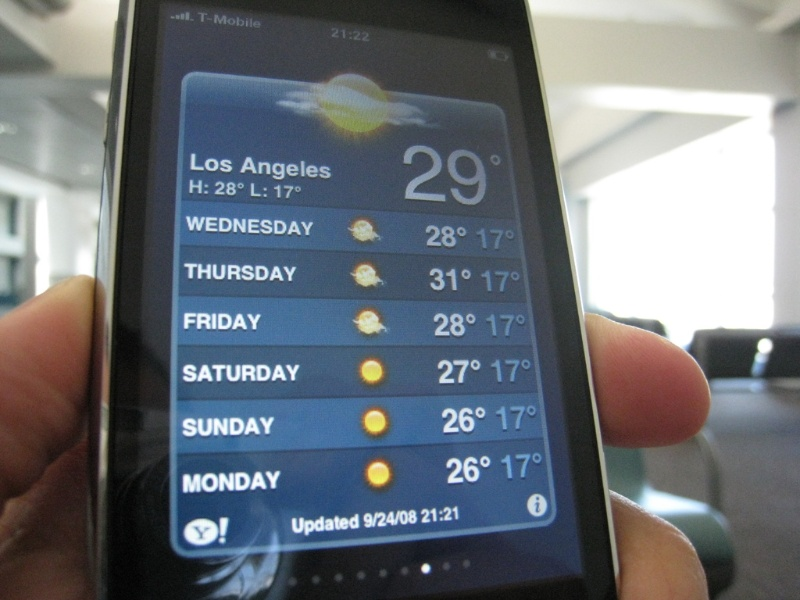cellphone: (108, 1, 632, 600)
